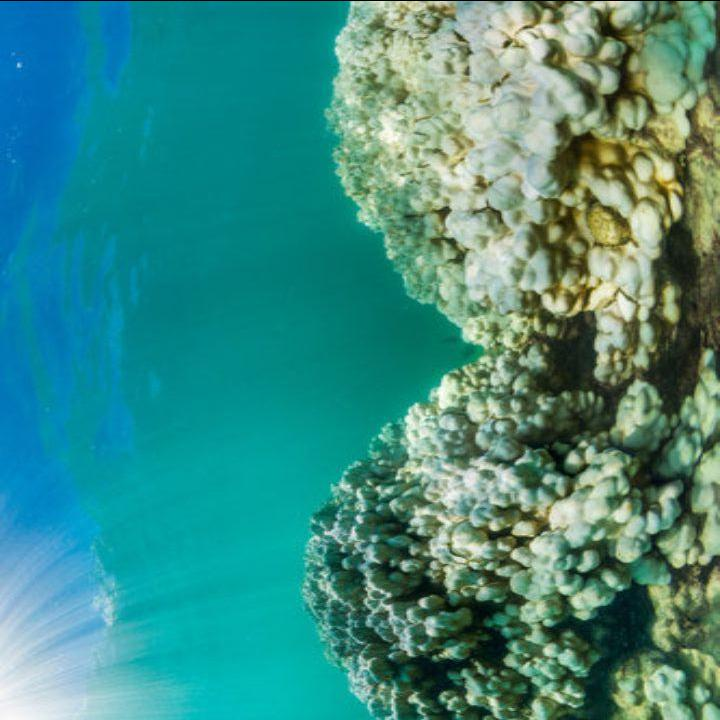Bleached disease: (349, 26, 639, 682)
